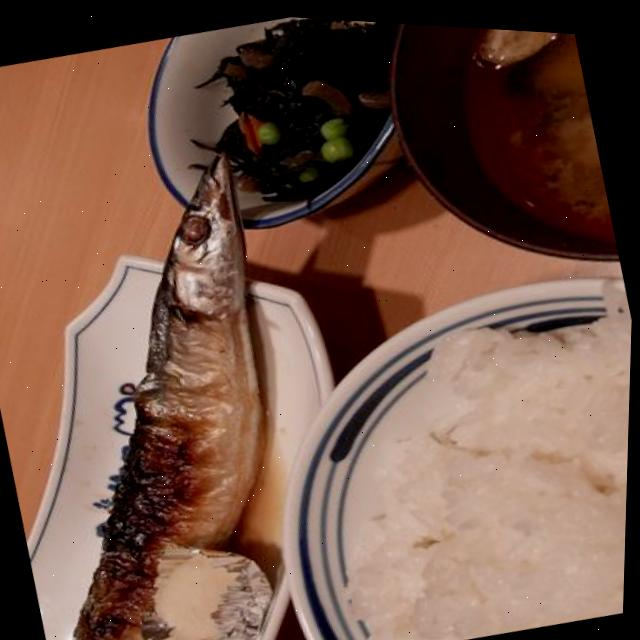米饭主食: (252, 243, 635, 640)
